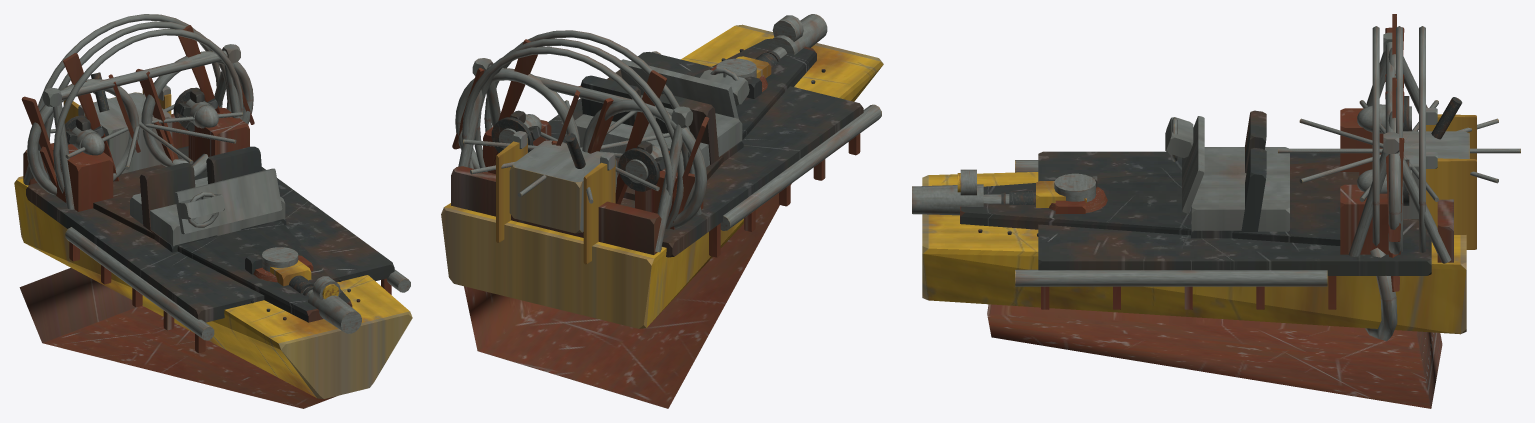
File: airboat.glb
3 renders of one model, left to right at view 1: azimuth 30°, elevation 25°; view 2: azimuth 150°, elevation 25°; view 3: azimuth 270°, elevation 25°, orthographic. The views are drawn at different scales.
Parts seen in each view (by area): view 1: airboat_body, wreckage_hull, fan_left, fan_right, turret_yaw_mesh, turret_pitch; view 2: airboat_body, wreckage_hull, fan_left, fan_right, rudder_left, rudder_right, turret_yaw_mesh, turret_pitch; view 3: airboat_body, wreckage_hull, rudder_right, fan_right, turret_pitch, fan_left, turret_yaw_mesh, rudder_left, turret_yaw_lod1_mesh.
Part boxes in pixels (x1,y1,x2,y2): airboat_body: [14, 14, 412, 398]; wreckage_hull: [19, 153, 336, 408]; fan_left: [21, 53, 140, 195]; fan_right: [135, 25, 254, 166]; turret_yaw_mesh: [245, 247, 298, 282]; turret_pitch: [270, 255, 313, 296]; airboat_body: [441, 14, 883, 328]; wreckage_hull: [464, 183, 791, 408]; fan_left: [582, 70, 709, 228]; fan_right: [452, 39, 581, 172]; rudder_left: [583, 152, 615, 264]; rudder_right: [496, 131, 527, 242]; turret_yaw_mesh: [716, 58, 767, 98]; turret_pitch: [711, 47, 786, 78]; airboat_body: [912, 26, 1520, 334]; wreckage_hull: [987, 247, 1442, 408]; rudder_right: [1426, 152, 1476, 249]; fan_right: [1357, 77, 1411, 291]; turret_pitch: [983, 181, 1086, 213]; fan_left: [1357, 14, 1411, 133]; turret_yaw_mesh: [1049, 171, 1107, 212]; rudder_left: [1426, 108, 1476, 159]; turret_yaw_lod1_mesh: [1049, 174, 1104, 212].
Size of what is drawn, in the model's own units: 2.62 by 3.31 by 5.26.
1 material, 1 textured.
